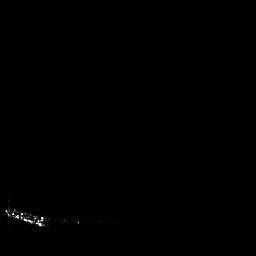ship: (4, 199, 80, 227)
